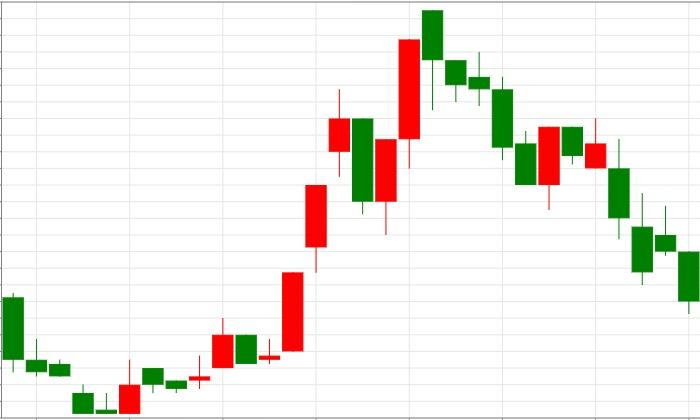bullish_engulfing_rise: (422, 9, 560, 209)
